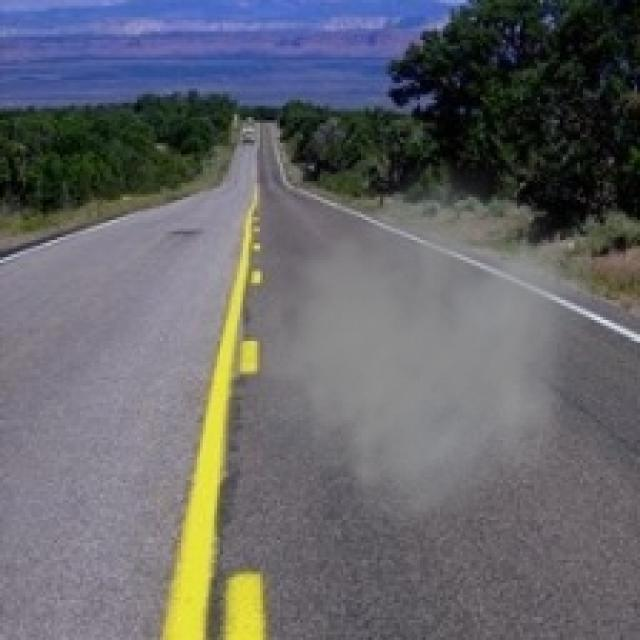Smoke: (217, 151, 592, 546)
